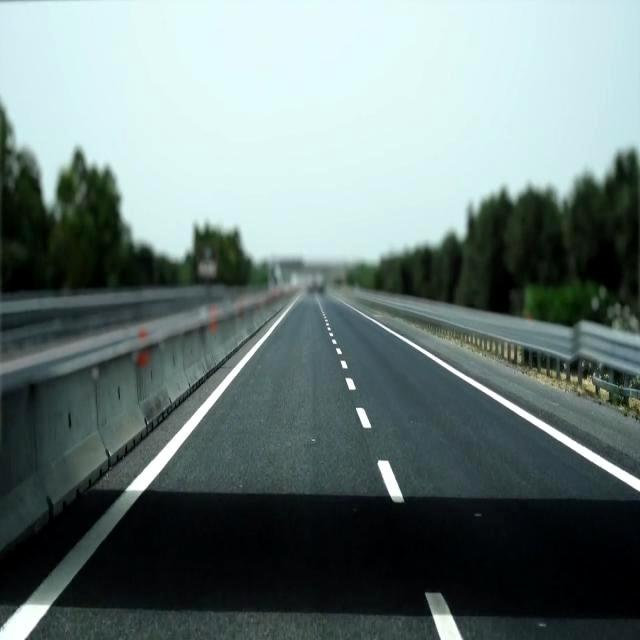lane: (0, 295, 299, 640), (368, 318, 640, 492), (426, 592, 464, 639), (378, 460, 404, 502), (357, 408, 371, 428)
road: (28, 295, 639, 639), (0, 336, 258, 624)
